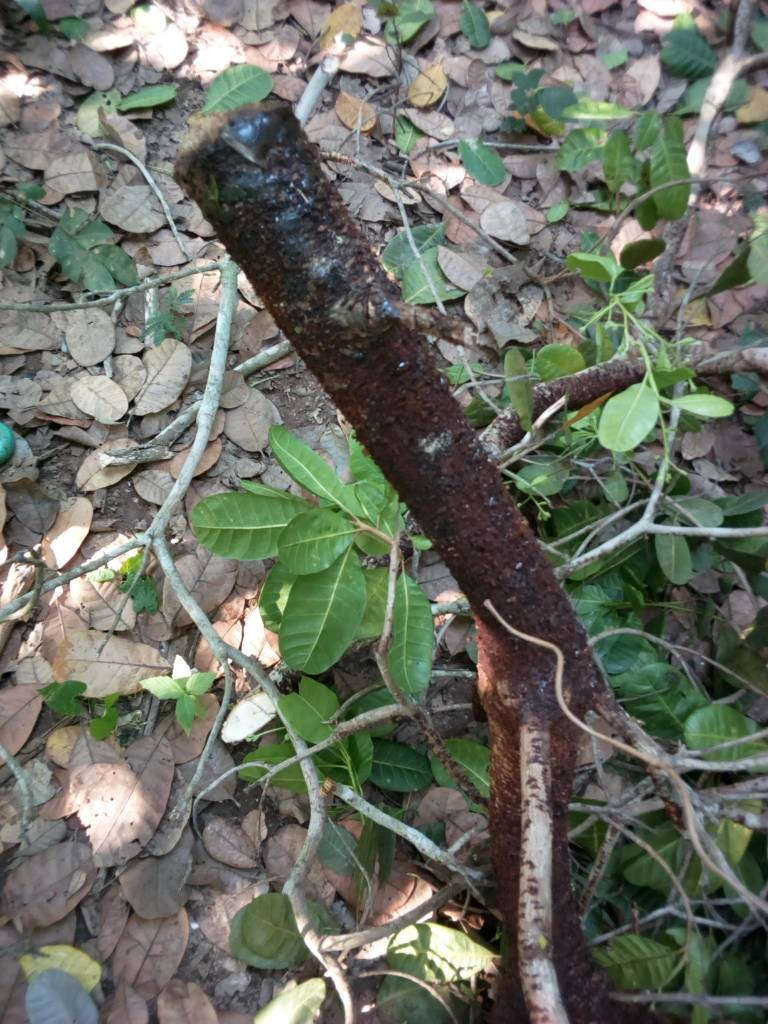Analepse trifasciata: (168, 83, 340, 217)
